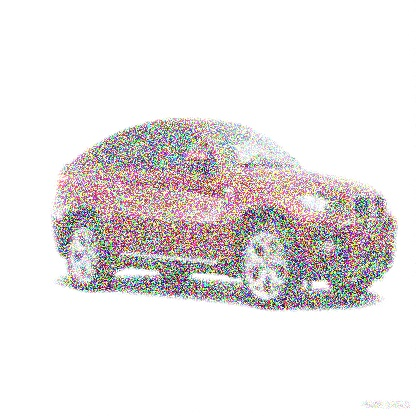Vehicle: (52, 120, 397, 310)
